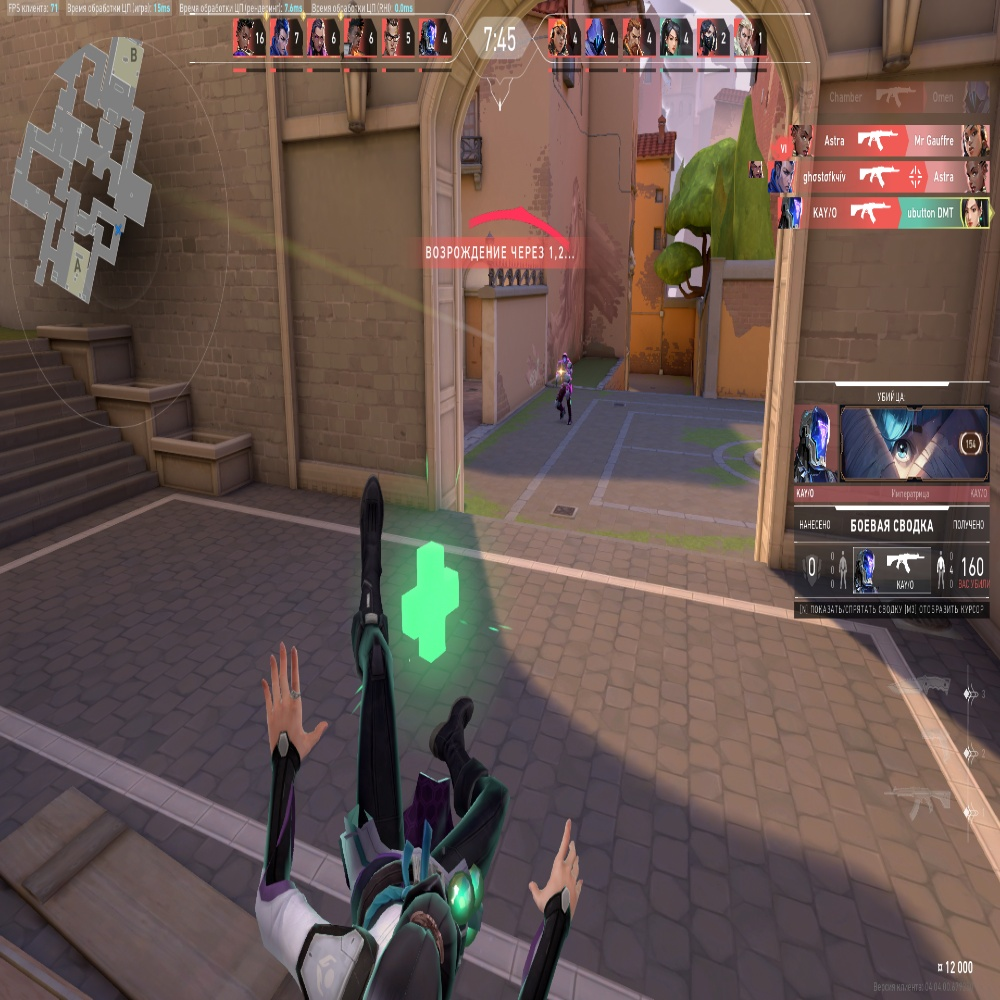body: (558, 363, 572, 391)
head: (562, 354, 567, 362)
